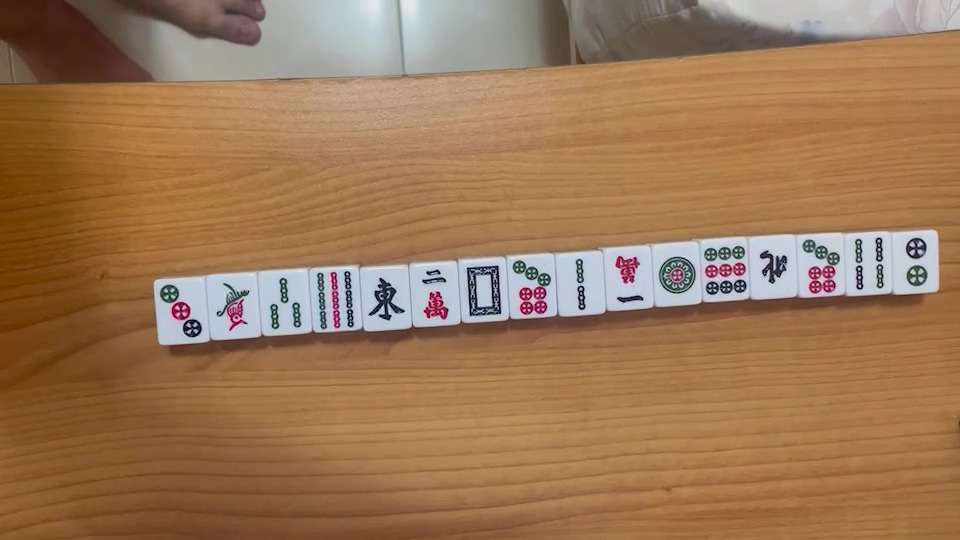b-1: (212, 281, 252, 333)
b-2: (567, 253, 594, 313)
b-3: (262, 274, 306, 333)
b-4: (848, 236, 887, 292)
b-9: (311, 268, 356, 331)
c-1: (613, 255, 648, 308)
c-2: (417, 269, 449, 321)
d-1: (656, 254, 697, 296)
d-2: (903, 233, 931, 291)
d-3: (156, 282, 203, 341)
d-7: (512, 259, 553, 317), (801, 238, 840, 297)
d-9: (702, 243, 748, 300)
honors-east: (366, 274, 407, 323), (753, 247, 792, 289)
honors-white: (461, 264, 504, 321)
